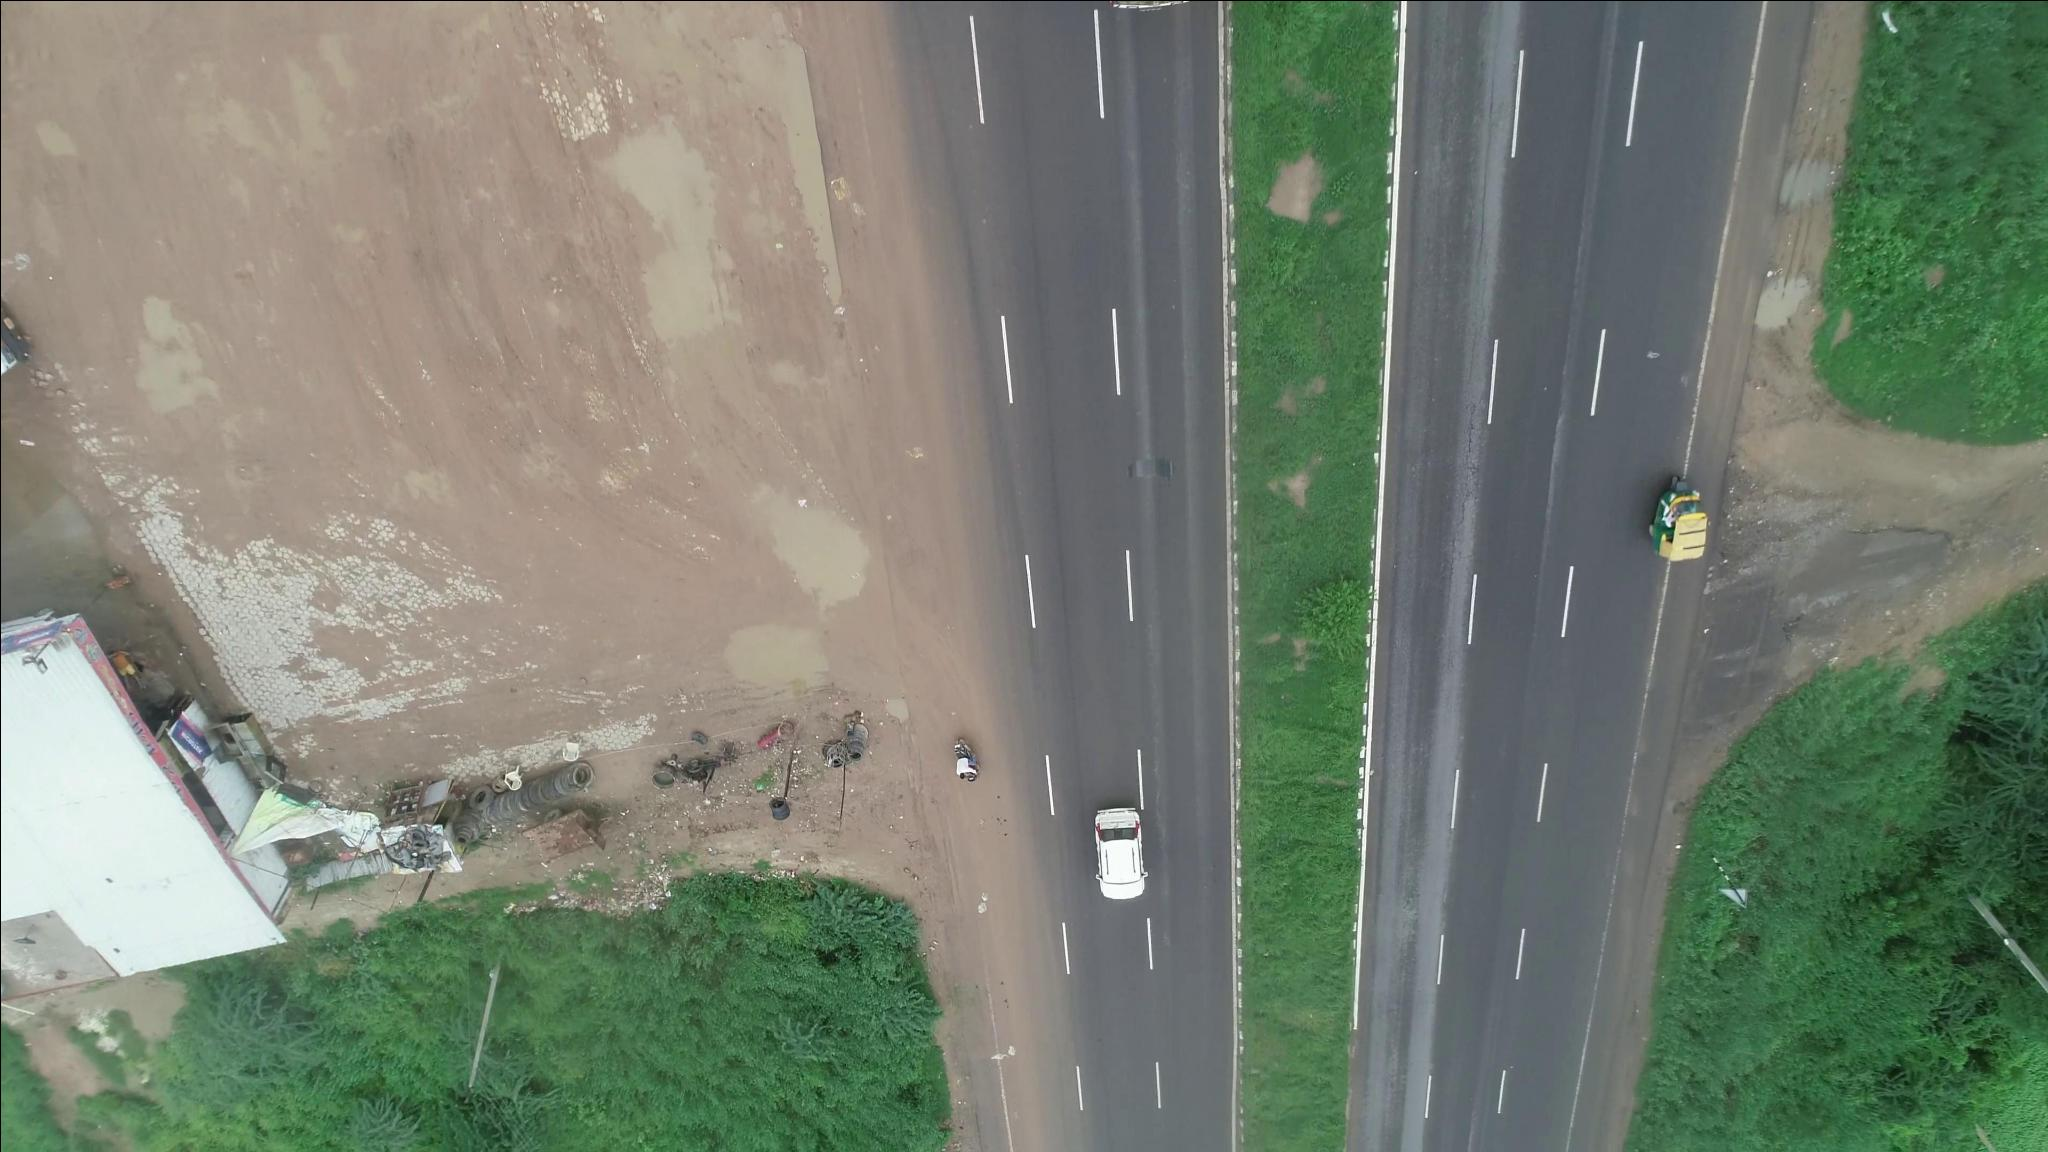Cracks: (1463, 60, 1504, 269), (1445, 402, 1481, 588)
